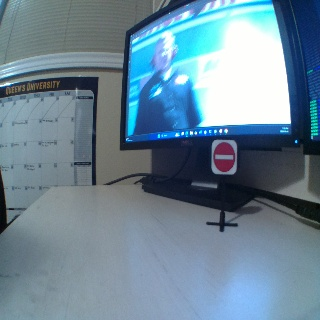sign_noentry: (210, 140, 235, 173)
